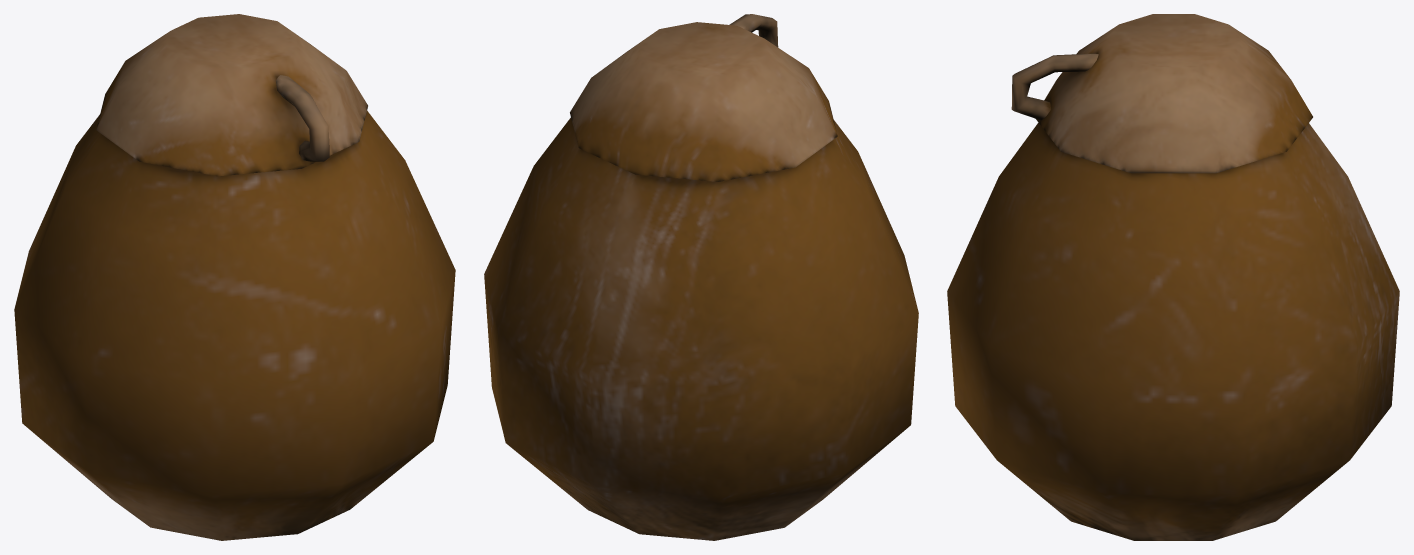
The model's file is Pot 2.fbx.
3 views of the same model, side by side, from view 1: azimuth 30°, elevation 25°; view 2: azimuth 150°, elevation 25°; view 3: azimuth 270°, elevation 25° (orthographic).
Parts seen in each view (by area): view 1: Pot 2; view 2: Pot 2; view 3: Pot 2.
Boxes of the visible parts, x1,y1,x2,y2 form: Pot 2: [14, 14, 455, 540]; Pot 2: [484, 14, 918, 540]; Pot 2: [947, 14, 1399, 540].
Bounding box in the file's own units: 0.3474 × 0.3985 × 0.3652.
